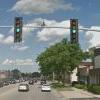Traffic light: (9, 13, 82, 48)
